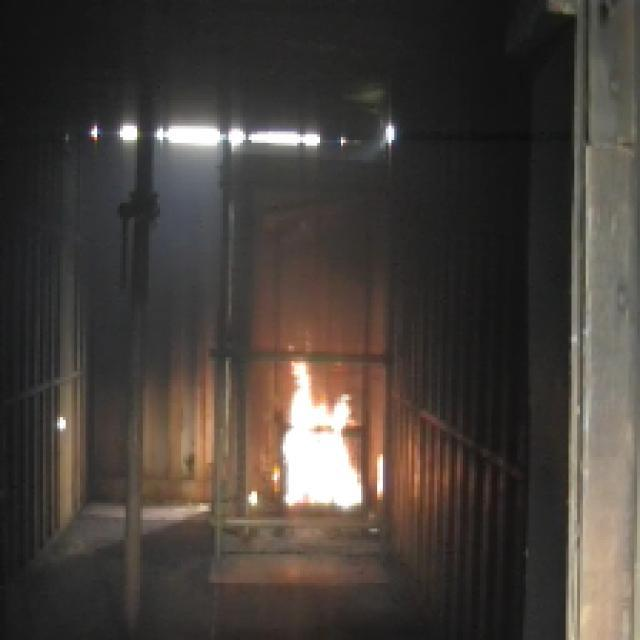Fire: (276, 352, 363, 509)
